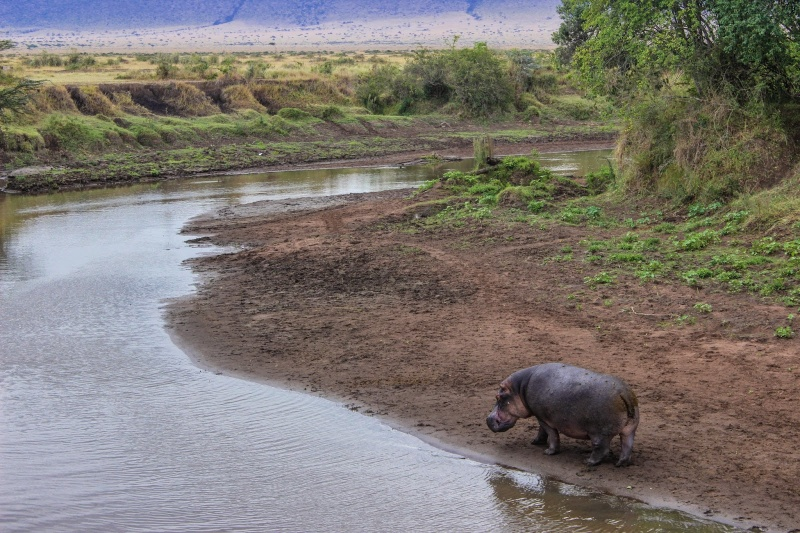hipopotamo: (480, 360, 645, 467)
